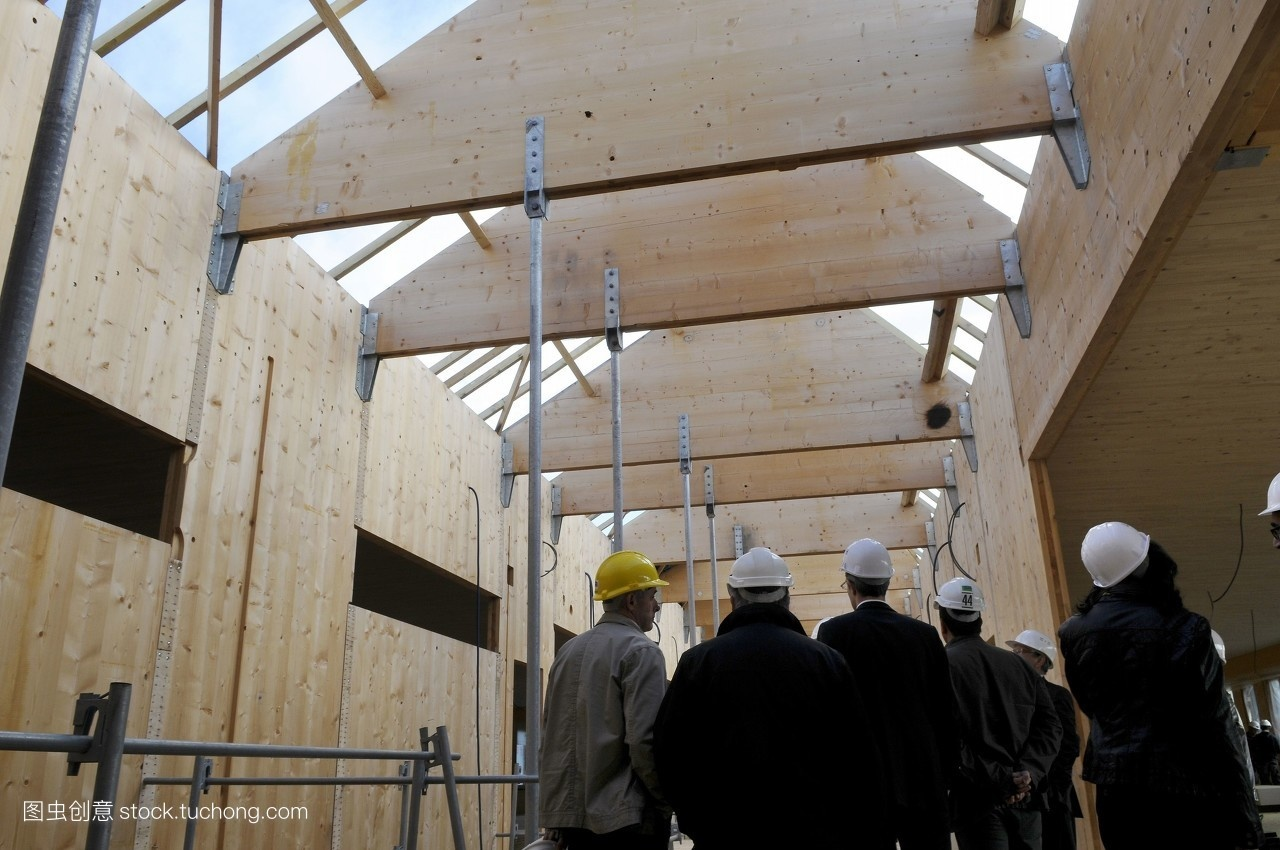white: (1080, 517, 1166, 600), (724, 545, 794, 614), (927, 572, 991, 641), (840, 536, 894, 605), (1003, 625, 1058, 681)
yellow: (589, 546, 663, 632)
